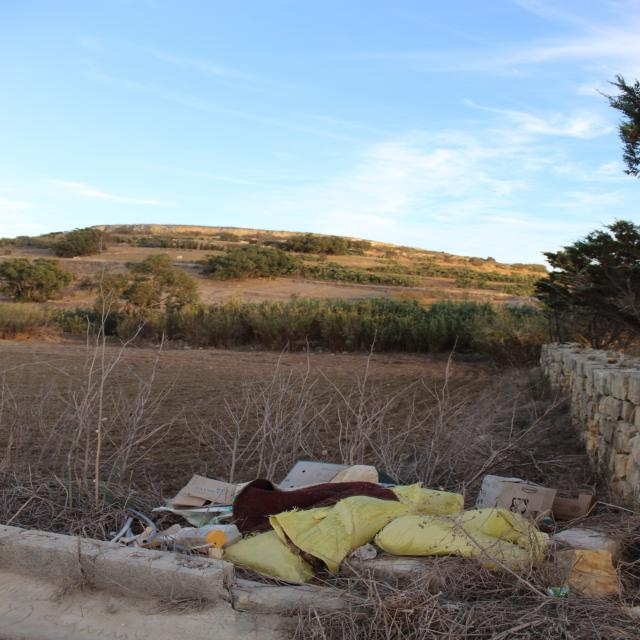Carton: (473, 475, 558, 527), (173, 474, 254, 507), (278, 459, 352, 489), (554, 494, 599, 518)
Other litter: (107, 465, 398, 553)
Other plastic: (223, 530, 315, 586)
Plastic bag - wrapper: (375, 482, 551, 574), (269, 495, 415, 577), (549, 583, 570, 596)
